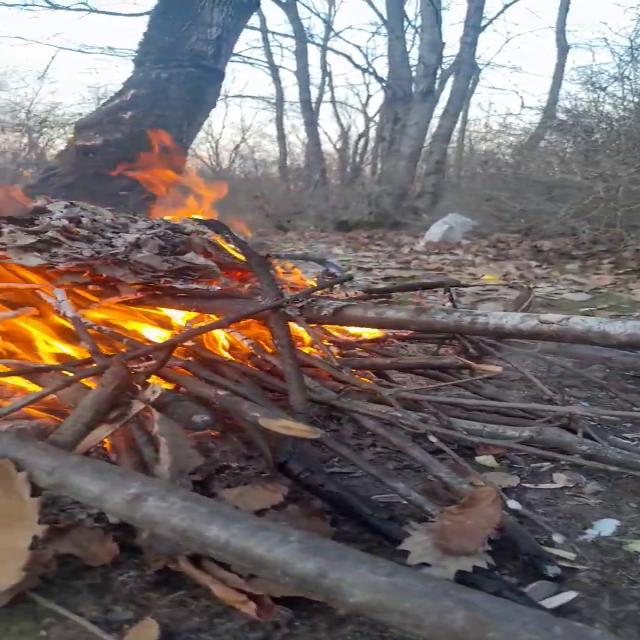Fire: (3, 267, 377, 402), (107, 137, 240, 223)
